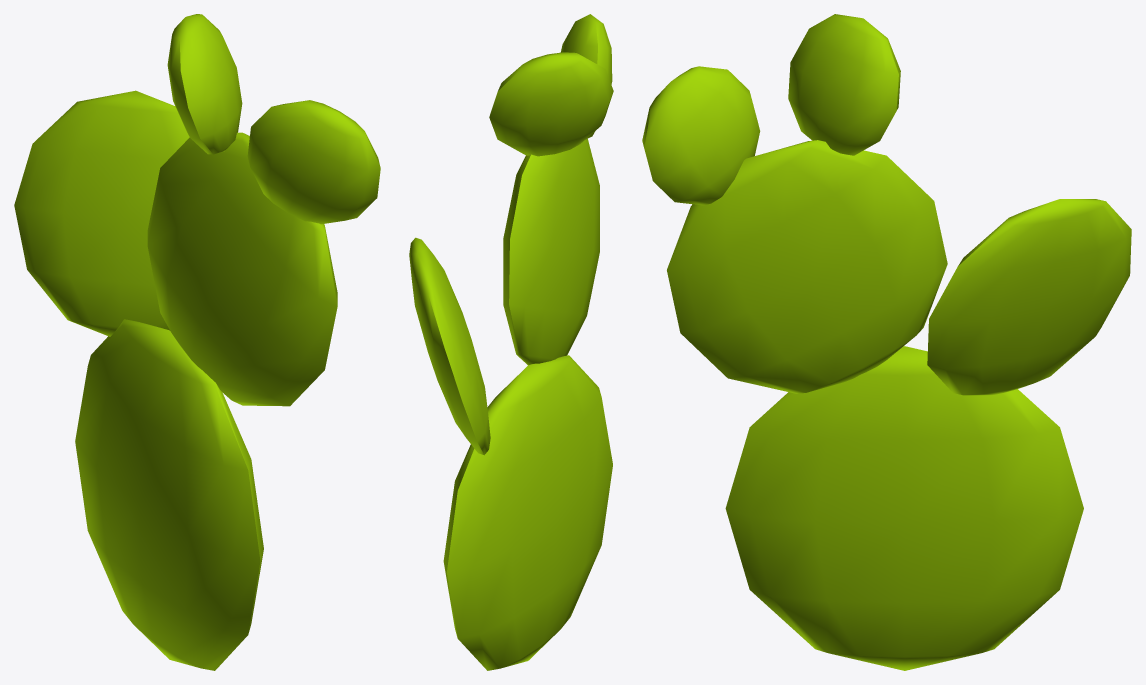
Rendered from Tree_2.fbx.
3 renders of one model, left to right at view 1: azimuth 30°, elevation 25°; view 2: azimuth 150°, elevation 25°; view 3: azimuth 270°, elevation 25°, orthographic. The views are drawn at different scales.
Visible parts, largest first — view 1: Kugel, Kugel_1, Kugel_2, Kugel_3, Kugel_4; view 2: Kugel, Kugel_1, Kugel_4, Kugel_2, Kugel_3; view 3: Kugel, Kugel_1, Kugel_2, Kugel_3, Kugel_4.
Boxes of the visible parts, left/top/right/bottom form: Kugel: left=75, top=319, right=263, bottom=670; Kugel_1: left=147, top=132, right=337, bottom=406; Kugel_2: left=14, top=90, right=189, bottom=336; Kugel_3: left=247, top=100, right=380, bottom=224; Kugel_4: left=167, top=14, right=242, bottom=154; Kugel: left=443, top=355, right=612, bottom=670; Kugel_1: left=503, top=139, right=599, bottom=365; Kugel_4: left=489, top=52, right=613, bottom=156; Kugel_2: left=409, top=237, right=490, bottom=455; Kugel_3: left=560, top=14, right=612, bottom=139; Kugel: left=725, top=346, right=1083, bottom=670; Kugel_1: left=667, top=140, right=947, bottom=393; Kugel_2: left=927, top=199, right=1131, bottom=395; Kugel_3: left=642, top=66, right=760, bottom=205; Kugel_4: left=788, top=14, right=900, bottom=155.
Bounding box in the file's own units: 85 × 400 × 273.
